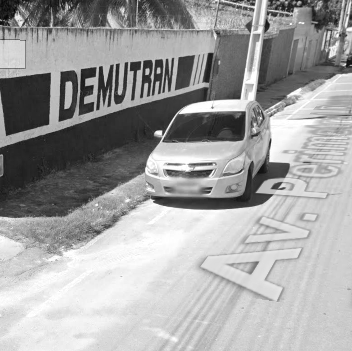car: (140, 88, 281, 211)
